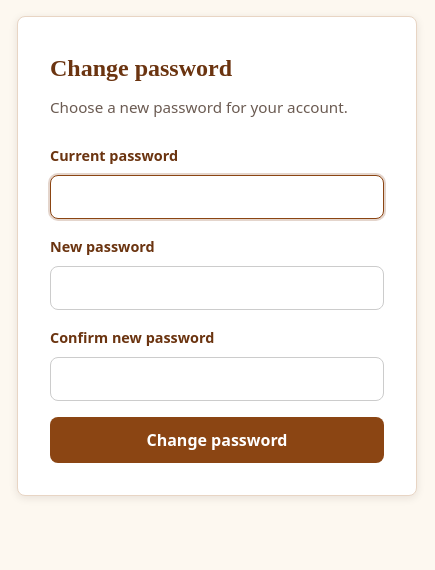
Test: ChangePasswordPage › reports a wrong current password
Type "wrong-password" into the password field labelled "Current password" at point(217, 197), box [50,175,384,219]
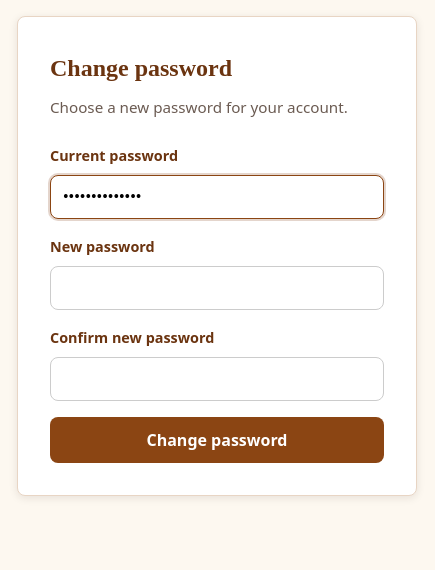
Type "brand-new-pass" into the password field labelled "New password" at point(217, 288), box [50,266,384,310]
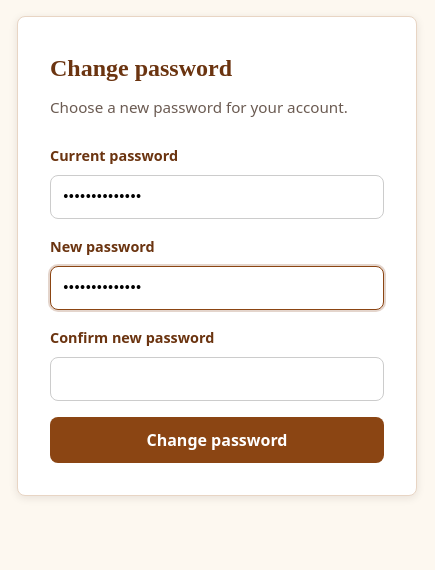
Type "brand-new-pass" into the password field labelled "Confirm new password" at point(217, 379), box [50,357,384,401]
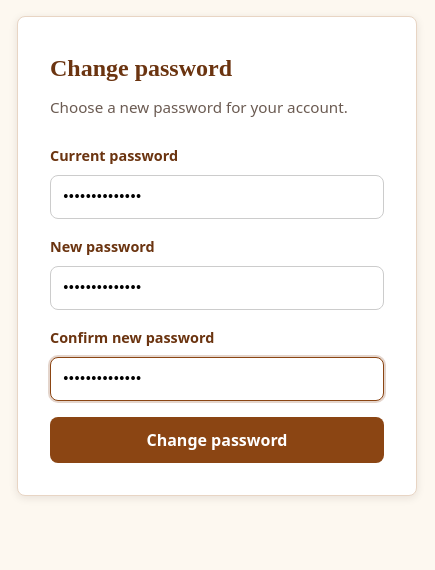
Click the button "Change password" at point(217, 440), box [50,417,384,463]
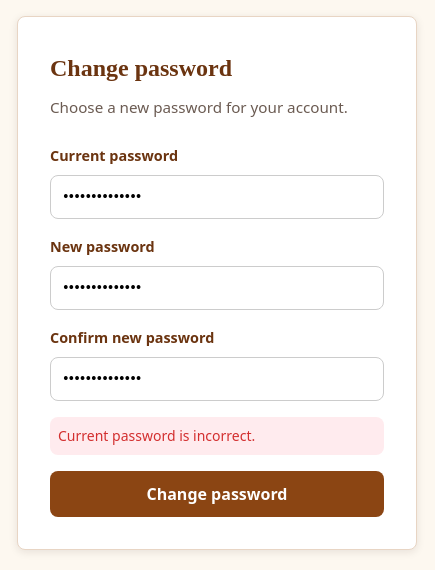
Result: the message shows "Current password is incorrect" at [58,426,255,445]
